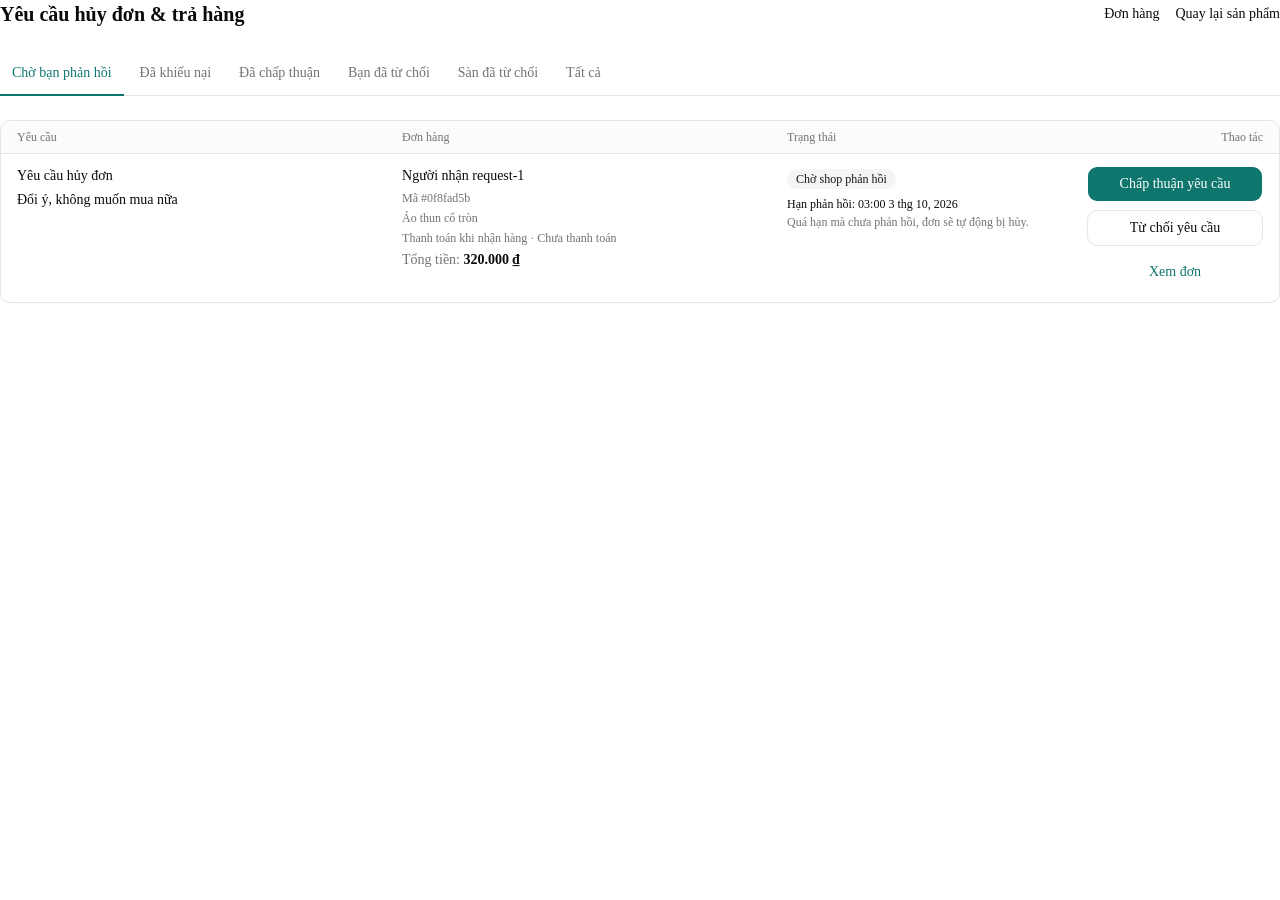
Test: SellerRefundRequestsContainer › duyệt yêu cầu HỦY: hộp thoại nói đơn bị hủy, KHÔNG có câu nhắc kho thủ công
The width and height of the screenshot is (1280, 900).
What coordinates should you click on to do the following:
click the button "Chấp thuận yêu cầu"
I would click on:
 (1175, 184)
Its box is [1087, 166, 1263, 202].
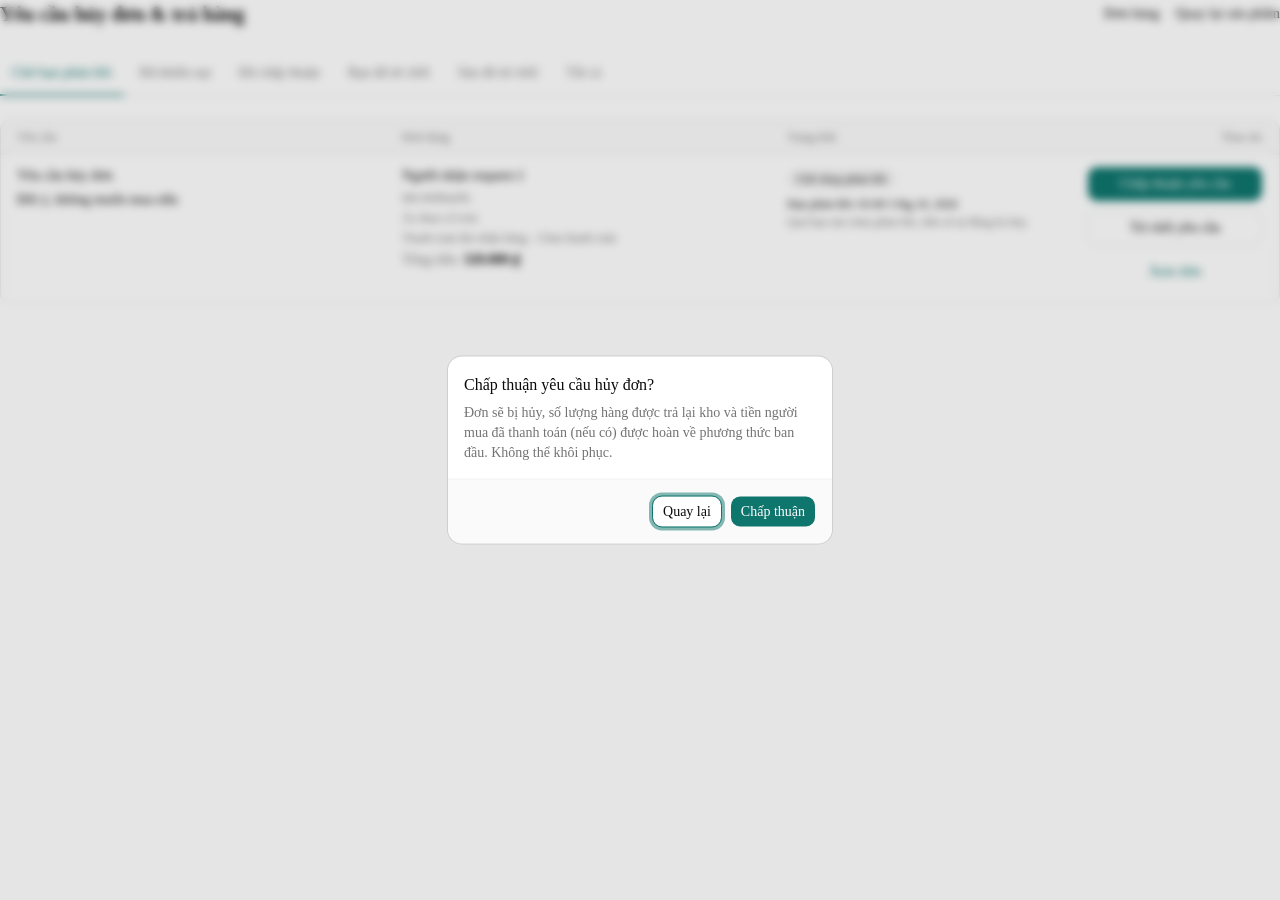
Expected: the heading "Chấp thuận yêu cầu hủy đơn?" is shown, [464, 372, 654, 396]
